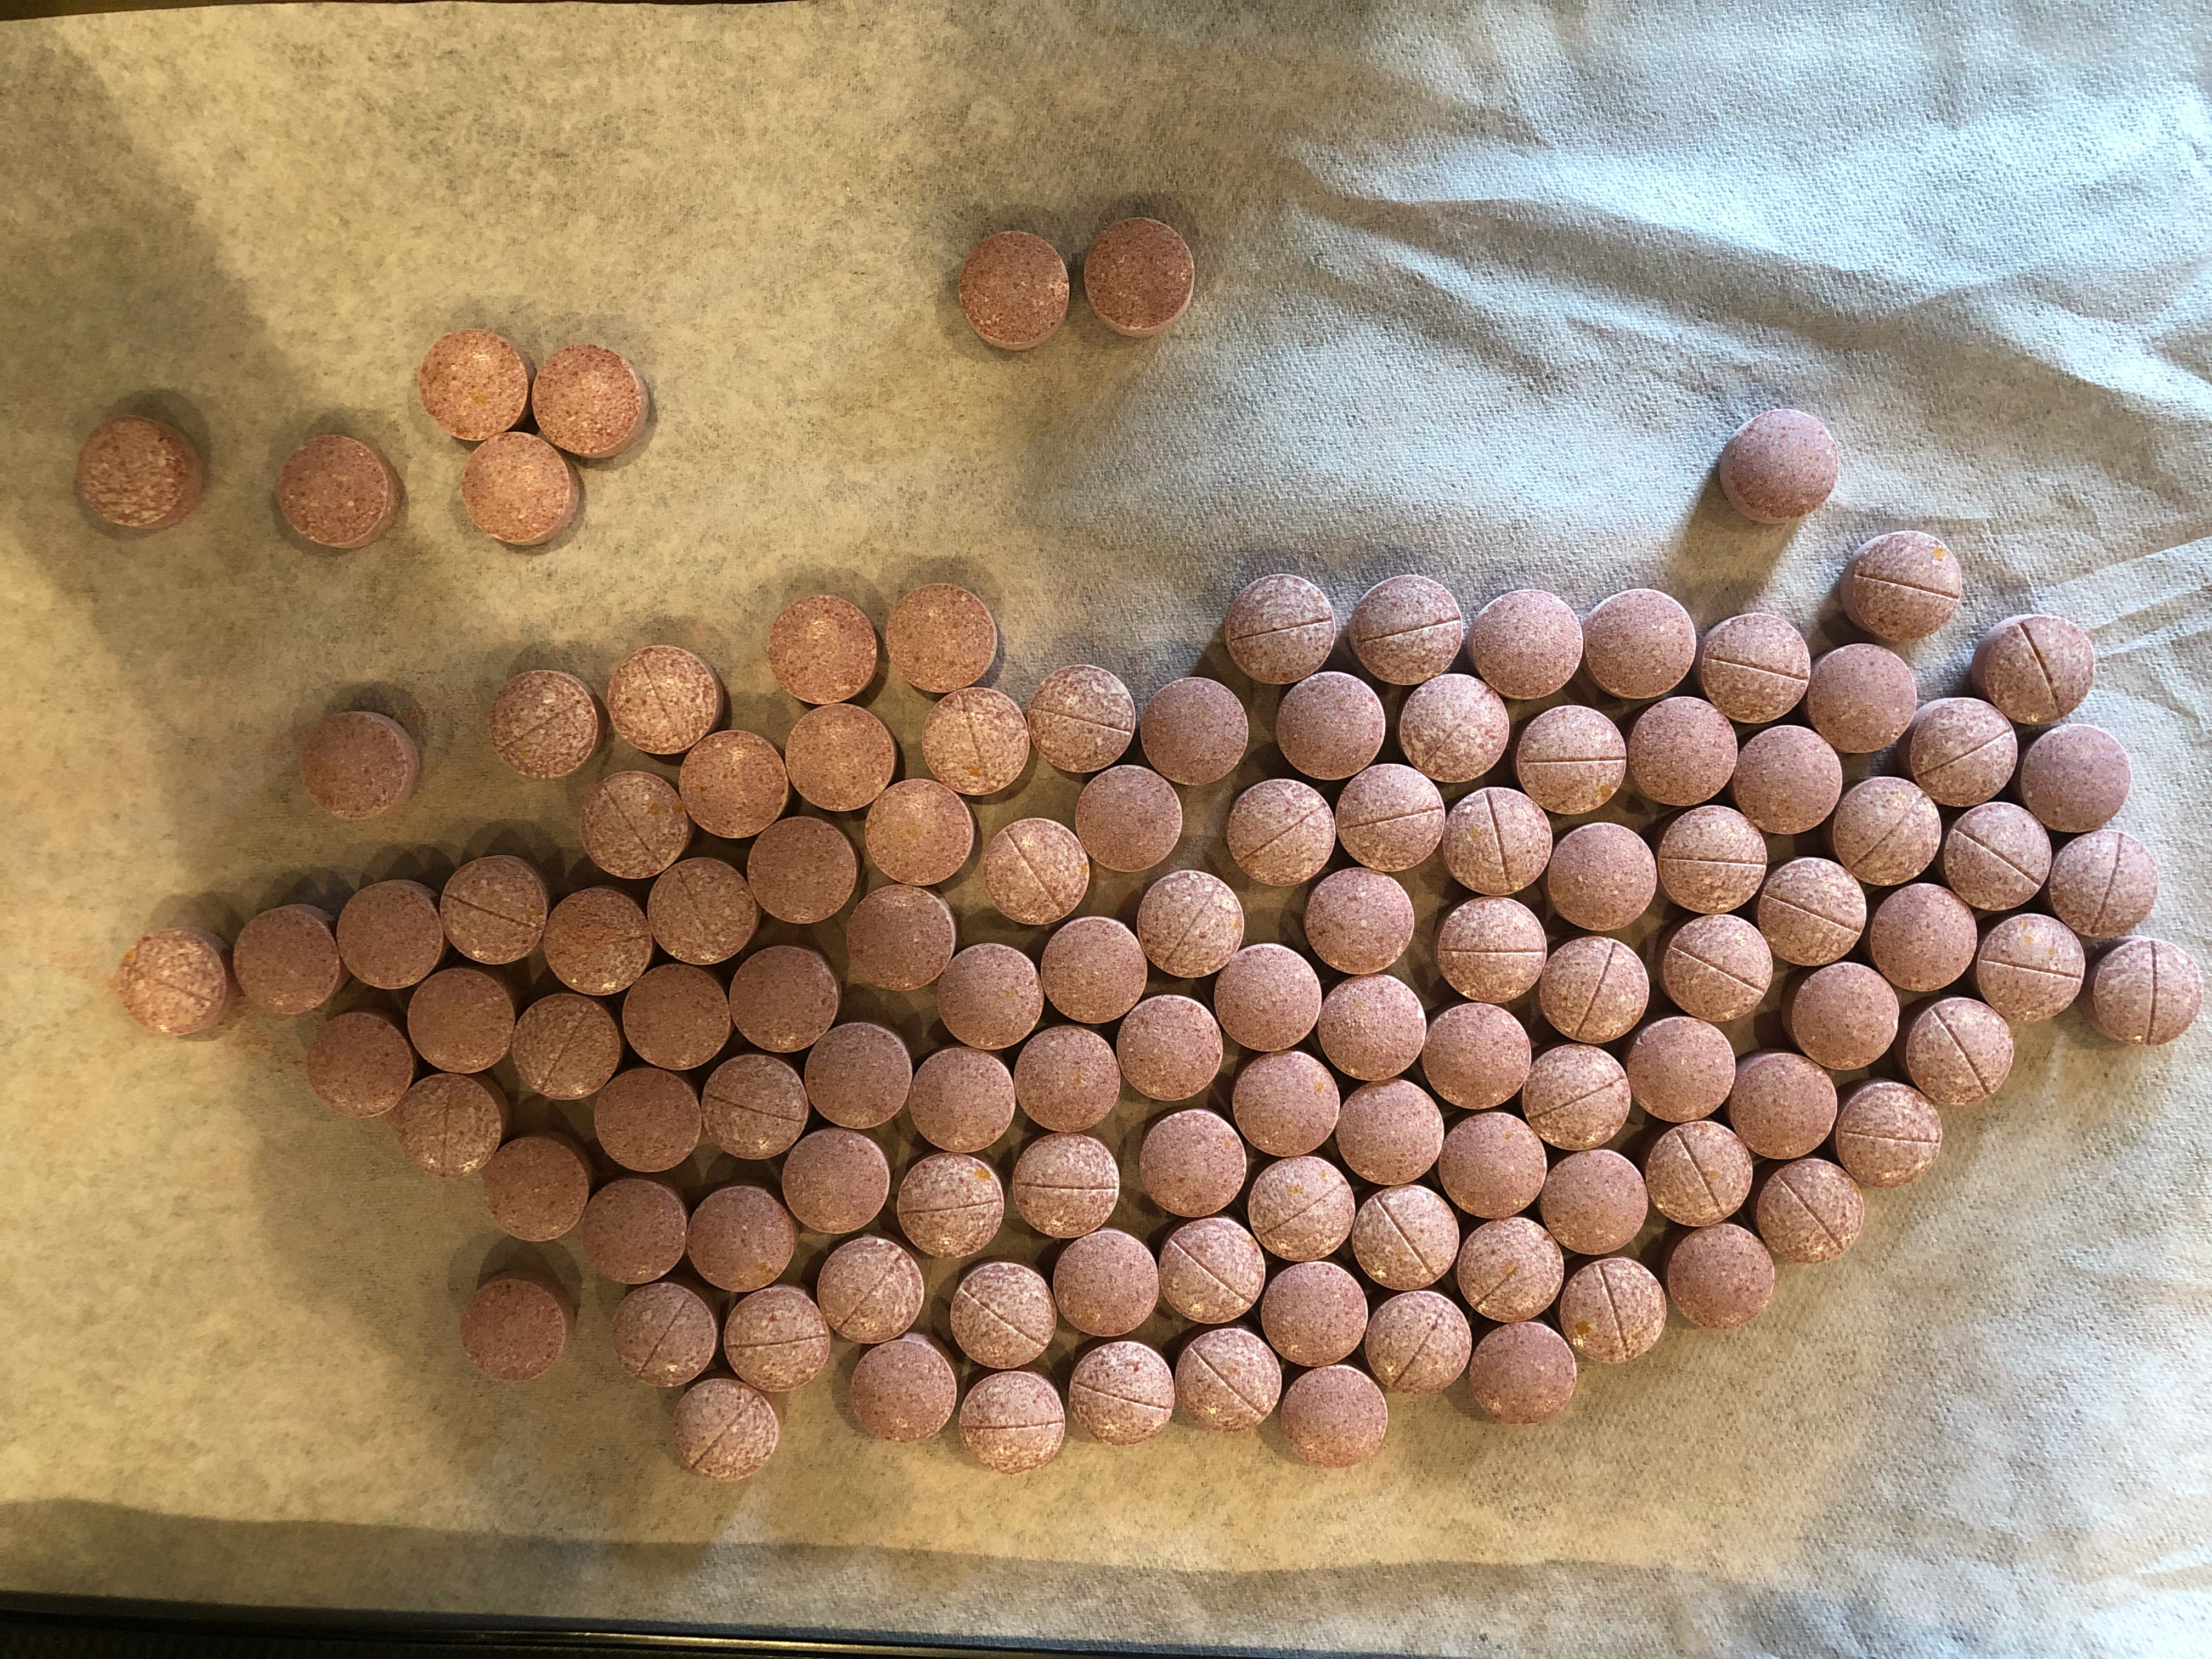tablet: (1078, 207, 1209, 349), (948, 225, 1082, 361), (263, 429, 404, 554), (68, 411, 206, 537), (453, 1262, 582, 1387), (1838, 528, 1966, 653), (110, 920, 235, 1047), (1435, 777, 1559, 904), (1717, 1040, 1841, 1168), (1966, 610, 2099, 728), (296, 704, 423, 826), (1714, 404, 1841, 526), (455, 429, 585, 547), (415, 321, 538, 444), (1465, 582, 1588, 704), (524, 345, 651, 464), (1346, 568, 1463, 695), (1580, 587, 1702, 708), (883, 579, 1005, 697), (806, 1230, 928, 1349), (941, 1258, 1062, 1377), (742, 810, 866, 927), (1223, 568, 1339, 692), (1432, 1108, 1557, 1223), (536, 884, 657, 1002), (892, 1147, 1008, 1269), (1754, 850, 1871, 972), (507, 988, 625, 1107), (902, 1042, 1022, 1159), (1224, 774, 1341, 894), (1900, 997, 2017, 1117), (230, 901, 352, 1016), (1334, 760, 1449, 882), (779, 702, 902, 816), (484, 664, 603, 781), (763, 589, 880, 708), (683, 1182, 801, 1298), (394, 1070, 514, 1185), (1345, 1182, 1465, 1297), (604, 645, 726, 758), (859, 775, 981, 889), (1515, 697, 1629, 819), (1642, 1115, 1756, 1237), (799, 1018, 916, 1134), (1136, 868, 1252, 985), (1831, 1080, 1947, 1197), (719, 1283, 838, 1398), (1393, 671, 1512, 786), (1538, 934, 1653, 1053), (1026, 655, 1139, 775), (1157, 1211, 1270, 1331), (1298, 864, 1418, 978), (1418, 1000, 1538, 1114), (1784, 960, 1904, 1073), (1693, 613, 1813, 727), (1806, 636, 1919, 756), (1003, 1131, 1127, 1241), (587, 1063, 704, 1178), (846, 1330, 963, 1445), (920, 683, 1035, 800), (1071, 760, 1186, 877), (1136, 1108, 1252, 1223), (2090, 936, 2205, 1053), (1313, 971, 1432, 1084), (641, 854, 761, 965), (1061, 1337, 1176, 1452), (1904, 697, 2019, 812), (1543, 817, 1656, 934), (1662, 911, 1778, 1025), (726, 943, 845, 1054), (1623, 697, 1742, 809), (437, 852, 550, 967), (578, 767, 693, 880), (580, 1176, 695, 1290), (1111, 993, 1226, 1107), (1244, 1150, 1357, 1265), (1522, 1040, 1635, 1155), (1665, 1222, 1778, 1337), (1273, 669, 1390, 781), (1212, 941, 1324, 1058), (1331, 1075, 1447, 1187), (1432, 894, 1548, 1006), (1750, 1157, 1867, 1269), (2047, 828, 2163, 939), (981, 810, 1090, 929), (481, 1131, 594, 1244), (679, 727, 792, 840), (622, 960, 735, 1073), (700, 1049, 813, 1162), (1050, 1225, 1163, 1338), (1360, 1290, 1474, 1403), (1625, 1012, 1738, 1126), (2019, 721, 2132, 835), (334, 878, 446, 993), (840, 882, 954, 993), (1653, 802, 1768, 913), (1035, 913, 1151, 1023), (1467, 1319, 1585, 1427), (1970, 915, 2088, 1023), (608, 1281, 721, 1392), (669, 1373, 780, 1486), (780, 1127, 892, 1241), (1831, 774, 1942, 887), (1228, 1047, 1343, 1157), (1536, 1147, 1651, 1256), (1865, 884, 1980, 993), (953, 1368, 1069, 1476), (1453, 1215, 1569, 1323), (934, 943, 1045, 1054), (1557, 1256, 1669, 1368), (1012, 1021, 1125, 1131), (1137, 676, 1251, 786), (1730, 725, 1843, 835), (303, 1007, 418, 1115), (1940, 802, 2055, 910), (1278, 1366, 1395, 1473), (406, 965, 516, 1077), (1172, 1324, 1284, 1434), (1259, 1258, 1371, 1368)
